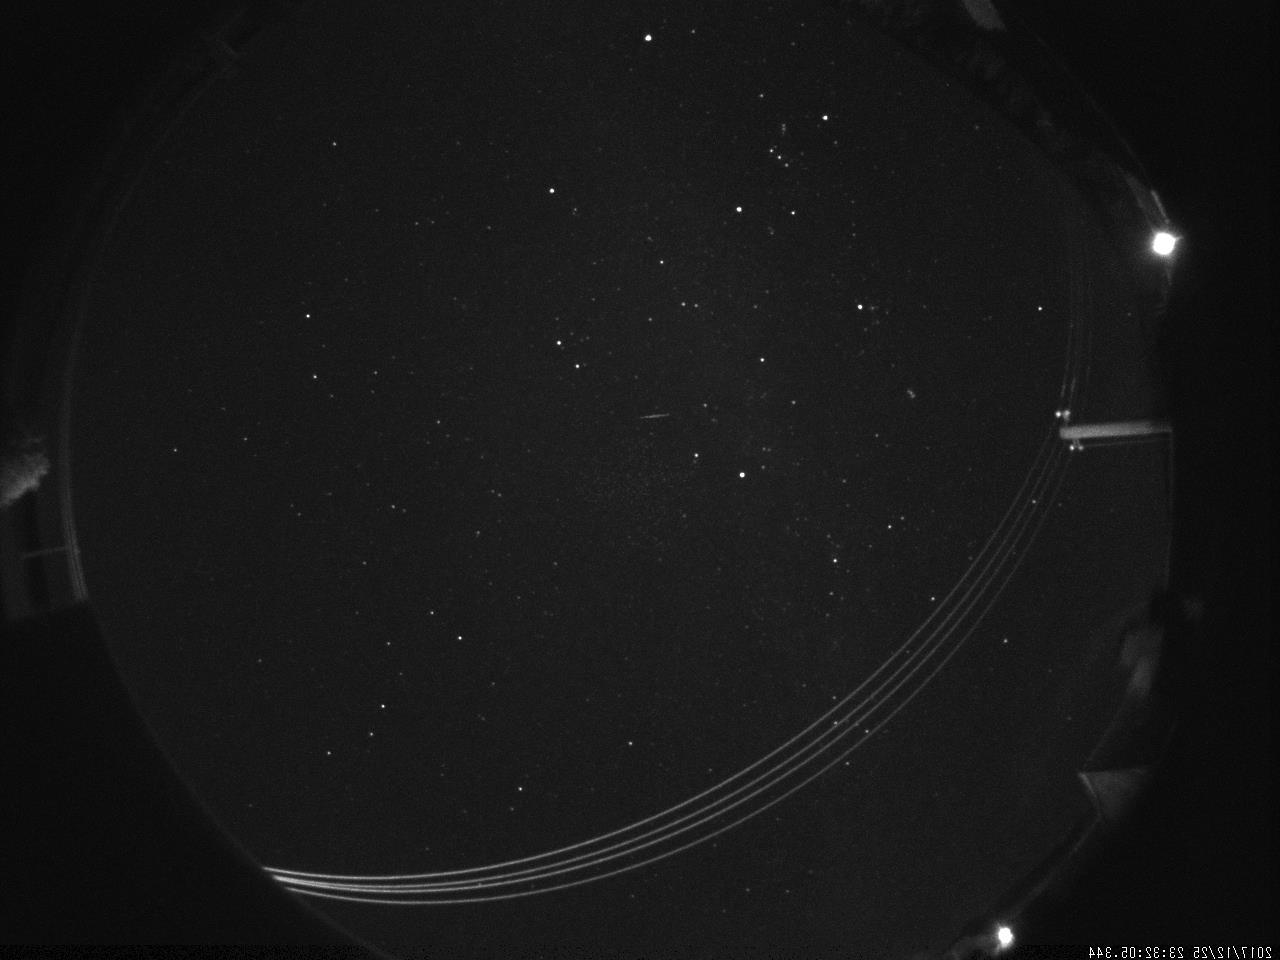meteor: (626, 396, 683, 433)
